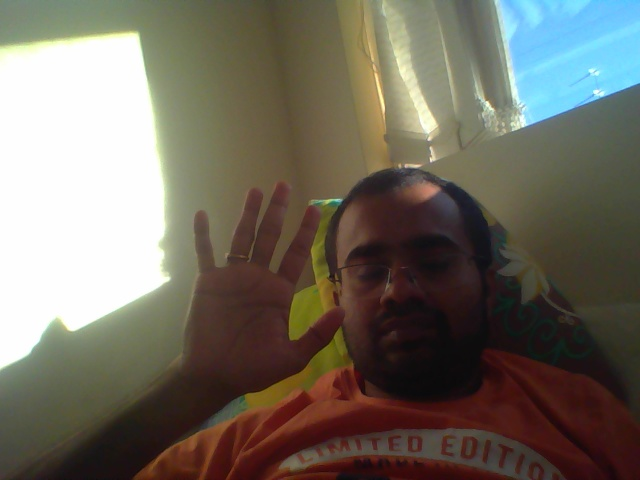LiveLong: (181, 175, 351, 399)
